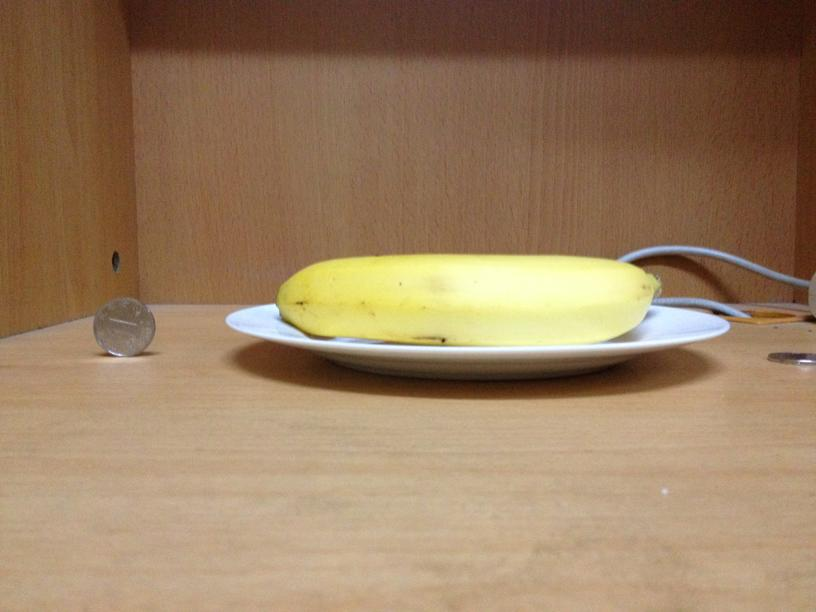banana: (274, 257, 654, 346)
coin: (89, 298, 156, 356)
